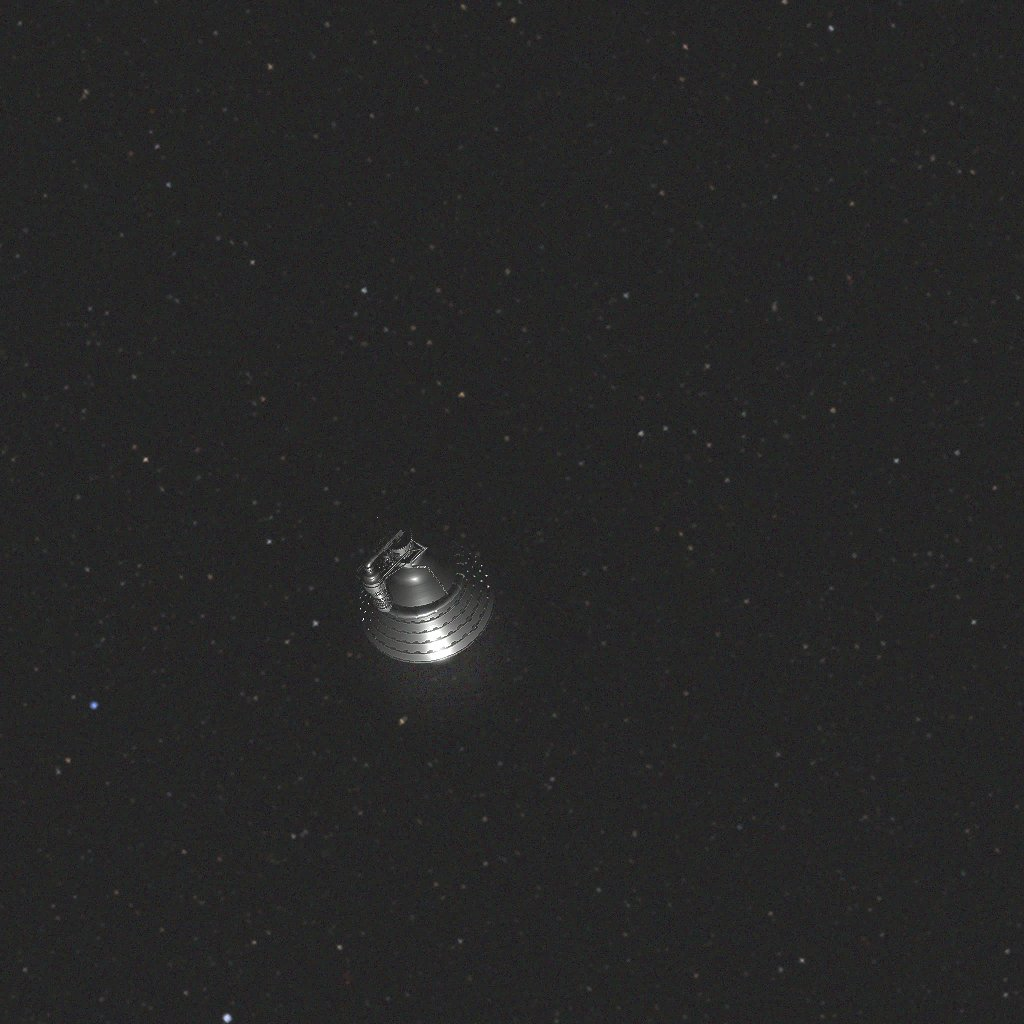debris: (355, 515, 495, 663)
